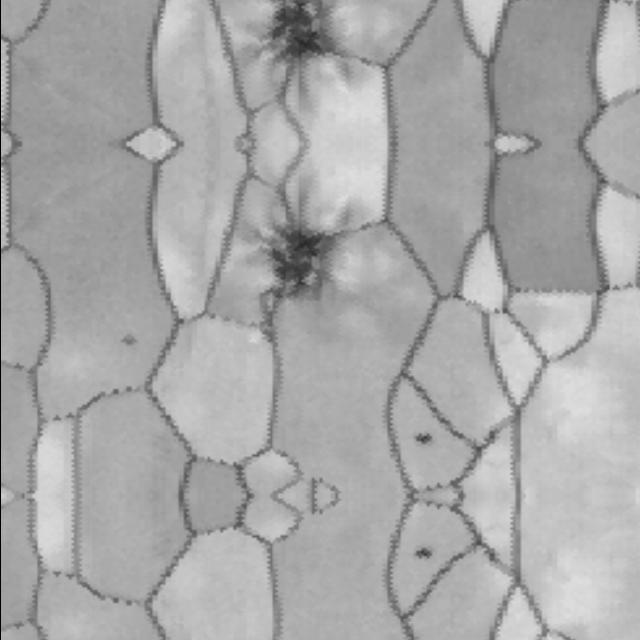good_void: (240, 185, 349, 307), (256, 0, 340, 94), (402, 415, 435, 452), (402, 540, 435, 576), (112, 332, 140, 346)
